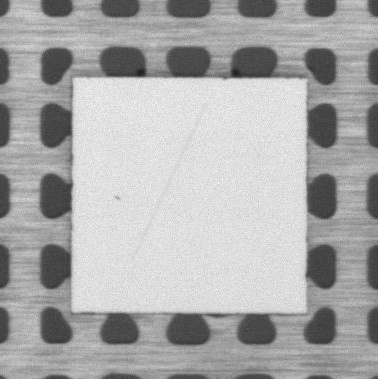DIE_CRACK: (133, 104, 206, 258)
